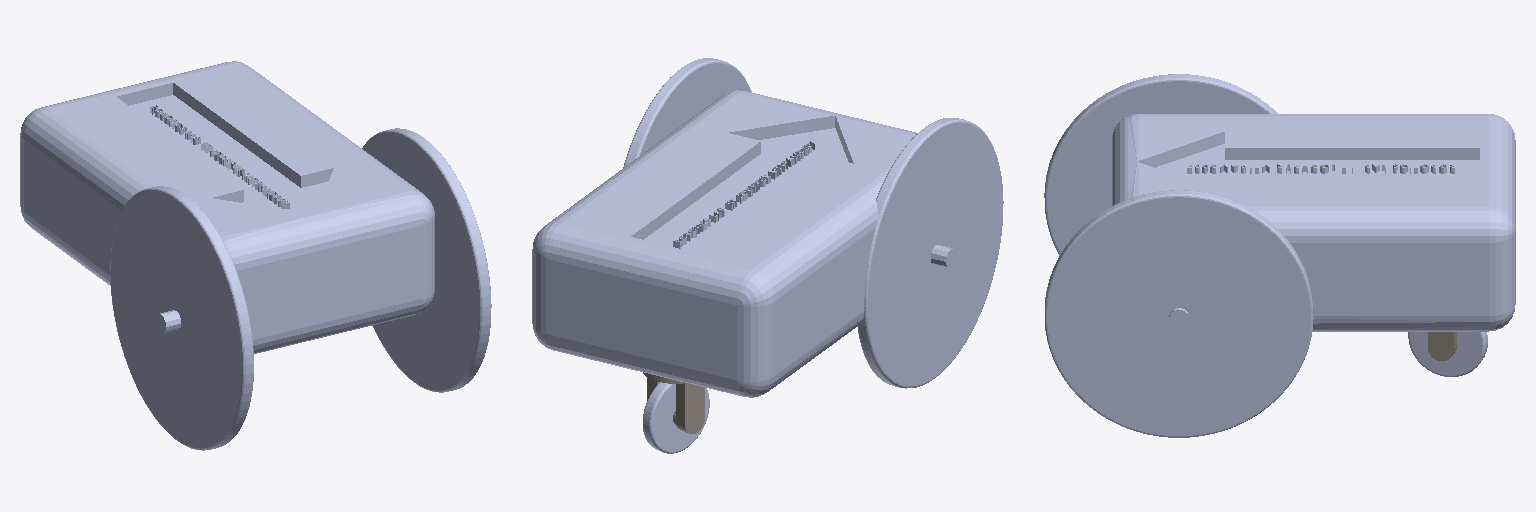
robot.urdf — Mobile Robot urdf:
<?xml version="1.0" encoding="utf-8"?>
<!-- This URDF was automatically created by SolidWorks to URDF Exporter! Originally created by [author] ([email redacted]) 
     Commit Version: 1.5.1-0-g916b5db  Build Version: 1.5.7152.31018
     For more information, please see http://wiki.ros.org/sw_urdf_exporter -->
<robot
  name="Mobile Robot urdf">
  <link
    name="base_link">
    <inertial>
      <origin
        xyz="-0.0932818046123113 0.248622421419087 0.148035881432924"
        rpy="0 0 0" />
      <mass
        value="5.68536204419266" />
      <inertia
        ixx="0.0461012423919062"
        ixy="2.44900119218913E-08"
        ixz="1.62170167989438E-07"
        iyy="0.0230236988866696"
        iyz="-1.99379837902682E-05"
        izz="0.0603619757567182" />
    </inertial>
    <visual>
      <origin
        xyz="0 0 0"
        rpy="0 0 0" />
      <geometry>
        <mesh
          filename="package://Mobile Robot urdf/meshes/base_link.STL" />
      </geometry>
      <material
        name="">
        <color
          rgba="0.792156862745098 0.819607843137255 0.933333333333333 1" />
      </material>
    </visual>
    <collision>
      <origin
        xyz="0 0 0"
        rpy="0 0 0" />
      <geometry>
        <mesh
          filename="package://Mobile Robot urdf/meshes/base_link.STL" />
      </geometry>
    </collision>
  </link>
  <link
    name="Right wheel">
    <inertial>
      <origin
        xyz="-1.38777878078145E-17 -0.005 0"
        rpy="0 0 0" />
      <mass
        value="0.311318231974914" />
      <inertia
        ixx="0.000782632376819195"
        ixy="-1.64007114091507E-19"
        ixz="-7.19717443273202E-20"
        iyy="0.00156010303265185"
        iyz="1.75796643917705E-19"
        izz="0.000782632376819195" />
    </inertial>
    <visual>
      <origin
        xyz="0 0 0"
        rpy="0 0 0" />
      <geometry>
        <mesh
          filename="package://Mobile Robot urdf/meshes/Right wheel.STL" />
      </geometry>
      <material
        name="">
        <color
          rgba="0.792156862745098 0.819607843137255 0.933333333333333 1" />
      </material>
    </visual>
    <collision>
      <origin
        xyz="0 0 0"
        rpy="0 0 0" />
      <geometry>
        <mesh
          filename="package://Mobile Robot urdf/meshes/Right wheel.STL" />
      </geometry>
    </collision>
  </link>
  <joint
    name="Right joint"
    type="continuous">
    <origin
      xyz="-0.19528 0.14862 0.12408"
      rpy="1.5708 -1.5708 0" />
    <parent
      link="base_link" />
    <child
      link="Right wheel" />
    <axis
      xyz="0 1 0" />
  </joint>
  <link
    name="Left wheel">
    <inertial>
      <origin
        xyz="-1.38777878078145E-17 0.00500000000000002 0"
        rpy="0 0 0" />
      <mass
        value="0.311318231974914" />
      <inertia
        ixx="0.000782632376819195"
        ixy="4.46300362903685E-20"
        ixz="-5.42101086242752E-20"
        iyy="0.00156010303265185"
        iyz="-4.82280036763924E-20"
        izz="0.000782632376819195" />
    </inertial>
    <visual>
      <origin
        xyz="0 0 0"
        rpy="0 0 0" />
      <geometry>
        <mesh
          filename="package://Mobile Robot urdf/meshes/Left wheel.STL" />
      </geometry>
      <material
        name="">
        <color
          rgba="0.792156862745098 0.819607843137255 0.933333333333333 1" />
      </material>
    </visual>
    <collision>
      <origin
        xyz="0 0 0"
        rpy="0 0 0" />
      <geometry>
        <mesh
          filename="package://Mobile Robot urdf/meshes/Left wheel.STL" />
      </geometry>
    </collision>
  </link>
  <joint
    name="Left joint"
    type="continuous">
    <origin
      xyz="0.0087188 0.14862 0.12408"
      rpy="0 -1.0364 -1.5708" />
    <parent
      link="base_link" />
    <child
      link="Left wheel" />
    <axis
      xyz="0 -1 0" />
  </joint>
  <link
    name="wheel holder">
    <inertial>
      <origin
        xyz="0 -0.0344478094730443 0"
        rpy="0 0 0" />
      <mass
        value="0.0385018272527705" />
      <inertia
        ixx="1.84552215695491E-05"
        ixy="1.02223341060484E-21"
        ixz="2.11758236813575E-21"
        iyy="1.07969223394932E-05"
        iyz="-8.15898875512751E-22"
        izz="1.49331507863245E-05" />
    </inertial>
    <visual>
      <origin
        xyz="0 0 0"
        rpy="0 0 0" />
      <geometry>
        <mesh
          filename="package://Mobile Robot urdf/meshes/wheel holder.STL" />
      </geometry>
      <material
        name="">
        <color
          rgba="0.647058823529412 0.619607843137255 0.588235294117647 1" />
      </material>
    </visual>
    <collision>
      <origin
        xyz="0 0 0"
        rpy="0 0 0" />
      <geometry>
        <mesh
          filename="package://Mobile Robot urdf/meshes/wheel holder.STL" />
      </geometry>
    </collision>
  </link>
  <joint
    name="wheel holder to base joint"
    type="continuous">
    <origin
      xyz="-0.093281166557301 0.348621605332735 0.0442217325358986"
      rpy="-1.5707963267949 0 -1.85769169657717" />
    <parent
      link="base_link" />
    <child
      link="wheel holder" />
    <axis
      xyz="0 1 0" />
  </joint>
  <link
    name="Front wheel">
    <inertial>
      <origin
        xyz="-2.77555756156289E-17 2.22044604925031E-16 0"
        rpy="0 0 0" />
      <mass
        value="0.0261883950379585" />
      <inertia
        ixx="6.4118385495969E-06"
        ixy="-2.69991751937308E-21"
        ixz="4.2351647362715E-22"
        iyy="1.2395183022203E-05"
        iyz="-1.16467030247466E-21"
        izz="6.41183854959689E-06" />
    </inertial>
    <visual>
      <origin
        xyz="0 0 0"
        rpy="0 0 0" />
      <geometry>
        <mesh
          filename="package://Mobile Robot urdf/meshes/Front wheel.STL" />
      </geometry>
      <material
        name="">
        <color
          rgba="0.792156862745098 0.819607843137255 0.933333333333333 1" />
      </material>
    </visual>
    <collision>
      <origin
        xyz="0 0 0"
        rpy="0 0 0" />
      <geometry>
        <mesh
          filename="package://Mobile Robot urdf/meshes/Front wheel.STL" />
      </geometry>
    </collision>
  </link>
  <joint
    name="Front wheel to holder joint"
    type="continuous">
    <origin
      xyz="0 -0.00985606670833084 0"
      rpy="-1.5707963267949 0 1.00050049811449" />
    <parent
      link="wheel holder" />
    <child
      link="Front wheel" />
    <axis
      xyz="0 1 0" />
  </joint>
</robot>

--- What the picture shows (computed from the rendered views, not written in the file) ---
3 views of the same robot in one strip: view 1: azimuth 30°, elevation 25°; view 2: azimuth 150°, elevation 25°; view 3: azimuth 270°, elevation 25° (orthographic).
Robot: Mobile Robot urdf — 5 links, 4 joints (4 continuous); root link base_link; default pose: all joints at 0.
Visible links, largest first — view 1: base_link, Right wheel, Left wheel; view 2: base_link, Right wheel, Left wheel, Front wheel, wheel holder; view 3: base_link, Left wheel, Right wheel, Front wheel, wheel holder.
Link boxes in pixels (bbox=[...]): base_link: bbox=[20, 61, 434, 353]; Right wheel: bbox=[110, 186, 253, 450]; Left wheel: bbox=[362, 128, 491, 392]; base_link: bbox=[532, 90, 955, 397]; Right wheel: bbox=[857, 118, 1003, 388]; Left wheel: bbox=[623, 58, 751, 167]; Front wheel: bbox=[643, 382, 709, 453]; wheel holder: bbox=[643, 372, 704, 433]; base_link: bbox=[1112, 114, 1515, 331]; Left wheel: bbox=[1045, 190, 1313, 437]; Right wheel: bbox=[1044, 74, 1277, 255]; Front wheel: bbox=[1408, 332, 1487, 376]; wheel holder: bbox=[1428, 332, 1456, 360].
Bounding box of the posed robot: 0.23 × 0.35 × 0.2 m (x, y, z).
5 mesh visuals loaded from 5 distinct referenced files (5 binary STL).